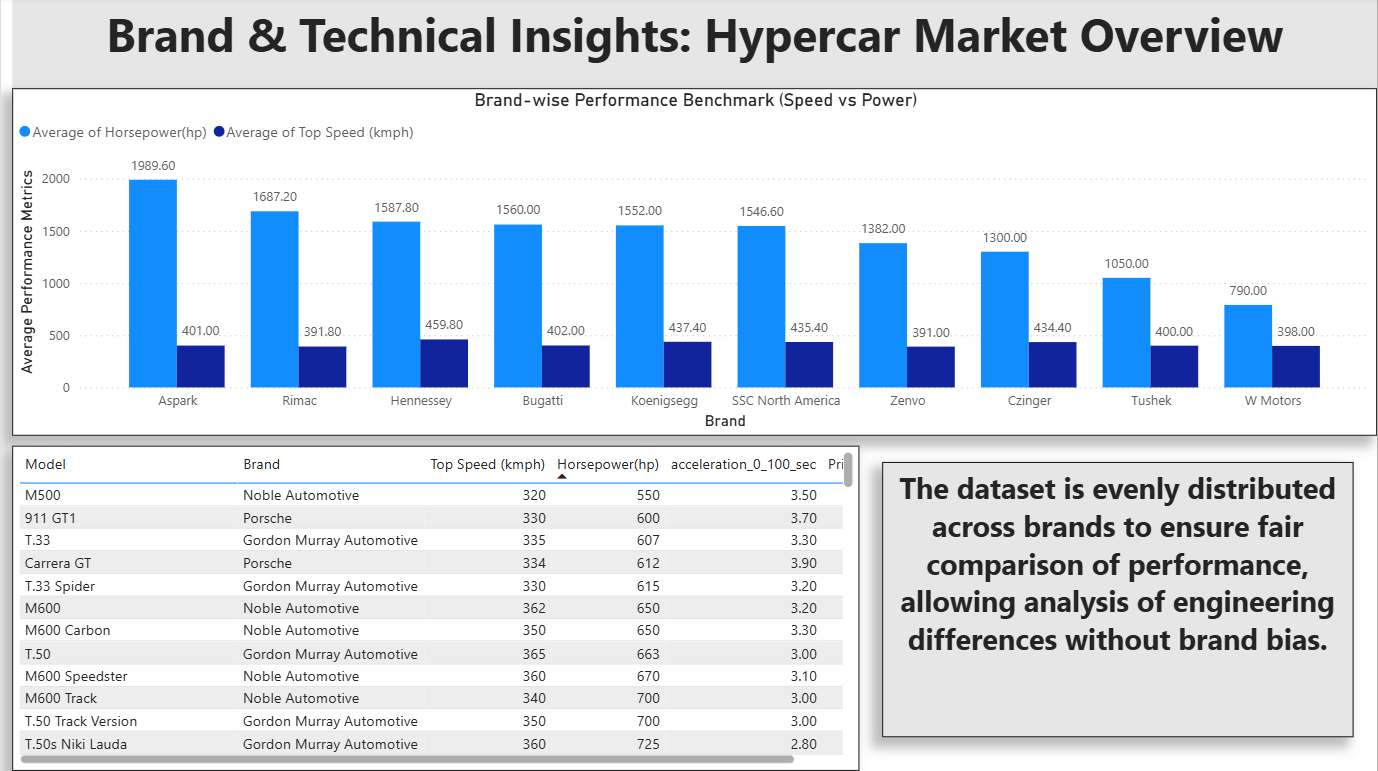

What the dashboard file says about the page in this screenshot:
{"tool":"powerbi","page":{"name":"Brand Insights","canvas":[1280,720],"ordinal":2},"visuals":[{"type":"textbox","box":[10.5,0,1269.8,84.9],"z":0},{"type":"clusteredColumnChart","title":"Brand-wise Performance Benchmark (Speed vs Power)","fields":{"Category":["car_full_details.Brand"],"Y":["Avg(car_full_details.Horsepower(hp))","Avg(car_full_details.Top Speed (kmph))"]},"box":[10.5,84.9,1269.8,323.3],"z":1000},{"type":"tableEx","fields":{"Values":["car_full_details.Model","car_full_details.Brand","car_full_details.Top Speed (kmph)","car_full_details.Horsepower(hp)","car_full_details.acceleration_0_100_sec","car_full_details.Price($M)"]},"box":[10.5,417.4,788.4,302.3],"z":2000},{"type":"textbox","box":[819.8,432.6,438.4,255.8],"z":3000}]}

Visuals, with their boxes in screenshot pixels (x1, y1, x2, y2), scaled from the page's 1280x720 canvas onto the 1378x771 screenshot:
textbox: bbox=(11, 0, 1377, 91)
"Brand-wise Performance Benchmark (Speed vs Power)" clusteredColumnChart: bbox=(11, 91, 1377, 437)
tableEx - car_full_details.Model x car_full_details.Brand: bbox=(11, 447, 860, 770)
textbox: bbox=(883, 463, 1355, 737)
